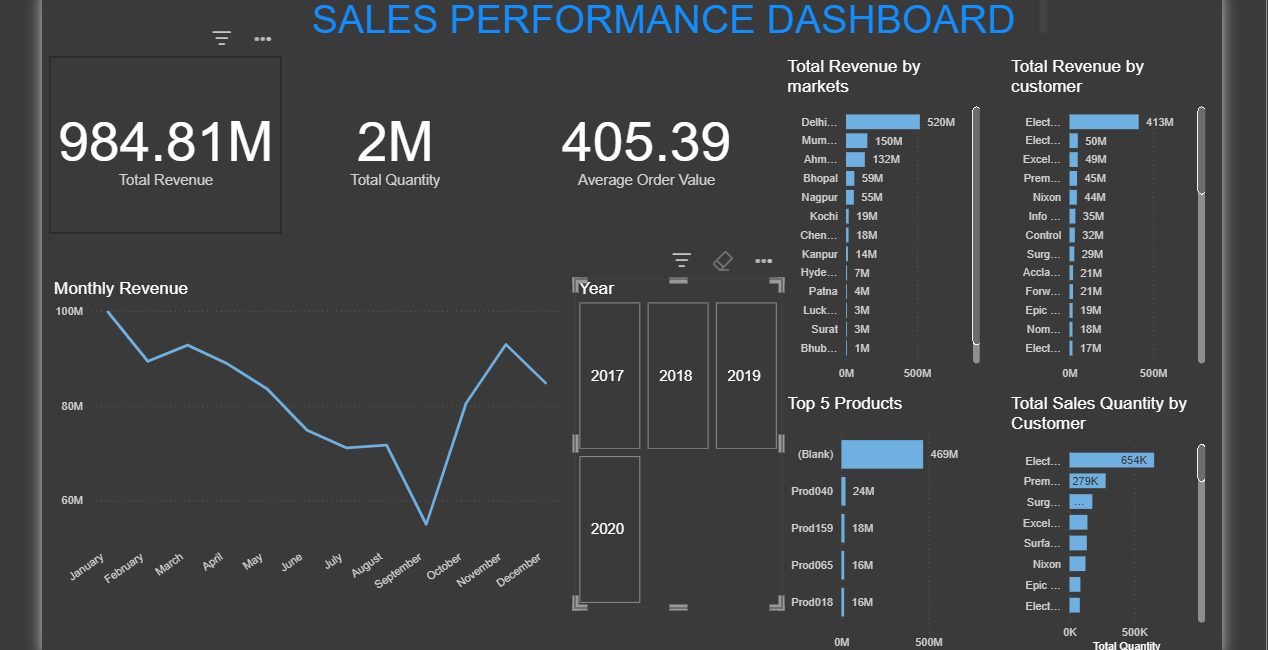

The page's visual inventory and layout, read from the dashboard file:
{"tool":"powerbi","page":{"name":"Page 1","canvas":[1280,720],"ordinal":0},"visuals":[{"type":"card","fields":{"Values":["basicmeasures.Total Revenue"]},"box":[8.3,69.6,251.8,192.2],"z":0},{"type":"card","fields":{"Values":["basicmeasures.Total Quantity"]},"box":[260.1,69.6,245.2,192.2],"z":1000},{"type":"card","fields":{"Values":["basicmeasures.Average Order Value"]},"box":[528.4,69.6,253.4,192.2],"z":2000},{"type":"lineChart","title":"Monthly Revenue","fields":{"Y":["basicmeasures.Total Revenue"],"Category":["sales date.month_name"]},"box":[8.3,311.4,559.9,357.8],"z":3000},{"type":"advancedSlicerVisual","title":"Year","fields":{"Values":["sales date.year"]},"box":[578.1,311.4,225.3,357.8],"z":4000},{"type":"barChart","title":"Total Revenue by markets","fields":{"Category":["sales markets.markets_name"],"Y":["basicmeasures.Total Revenue"]},"box":[803.4,69.6,218.7,359.5],"z":5000},{"type":"barChart","title":"Total Revenue by customer","fields":{"Category":["sales customers.custmer_name"],"Y":["basicmeasures.Total Revenue"]},"box":[1045.2,69.6,220.3,359.5],"z":6000},{"type":"textbox","box":[287.9,0,806.8,53.7],"z":7000},{"type":"barChart","title":"Top 5 Products","fields":{"Category":["sales products.product_code"],"Y":["basicmeasures.Total Revenue"]},"box":[803.4,435.7,218.7,284.9],"z":8000},{"type":"barChart","title":"Total Sales Quantity by Customer","fields":{"Y":["basicmeasures.Total Quantity"],"Category":["sales customers.custmer_name"]},"box":[1045.2,435.7,220.3,284.9],"z":9000}]}

Visuals, with their boxes on the page's 1280x720 design canvas (x1, y1, x2, y2). These are canvas units, not pixel positions in the 1268x650 screenshot, which may show the page scaled, cropped or inside an application window:
card - basicmeasures.Total Revenue: (left=8, top=70, right=260, bottom=262)
card - basicmeasures.Total Quantity: (left=260, top=70, right=505, bottom=262)
card - basicmeasures.Average Order Value: (left=528, top=70, right=782, bottom=262)
"Monthly Revenue" lineChart: (left=8, top=311, right=568, bottom=669)
"Year" advancedSlicerVisual: (left=578, top=311, right=803, bottom=669)
"Total Revenue by markets" barChart: (left=803, top=70, right=1022, bottom=429)
"Total Revenue by customer" barChart: (left=1045, top=70, right=1266, bottom=429)
textbox: (left=288, top=0, right=1095, bottom=54)
"Top 5 Products" barChart: (left=803, top=436, right=1022, bottom=721)
"Total Sales Quantity by Customer" barChart: (left=1045, top=436, right=1266, bottom=721)
